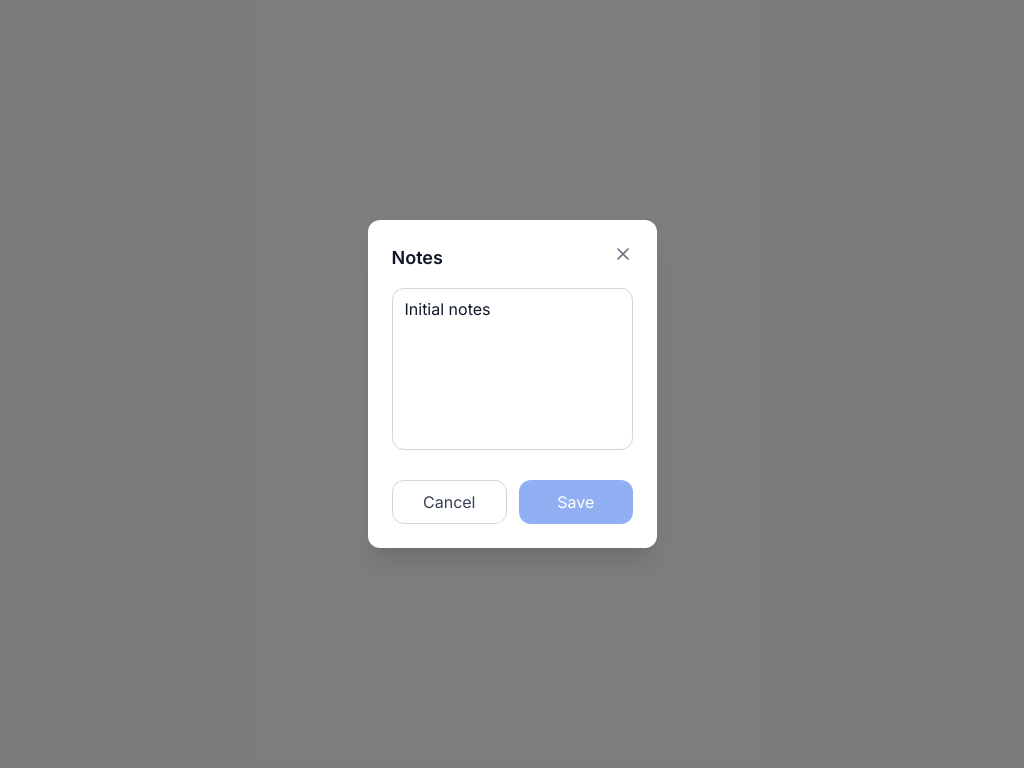
EditNotesModal › enables save when notes changed
This screenshot has width=1024, height=768.
Replace the text in the text box with placeholder "Add your notes about this book..." with "Updated notes" at point(512, 369), box x1=392 y1=288 x2=632 y2=450
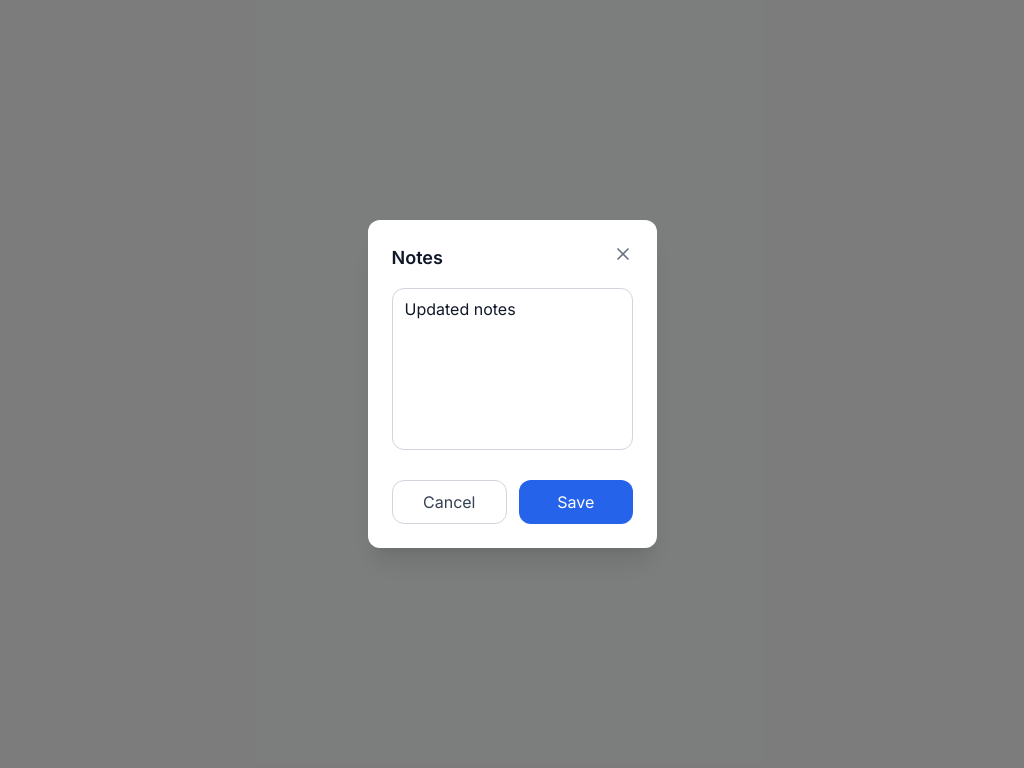
Check: the button "Save" is enabled, box x1=519 y1=480 x2=632 y2=524
